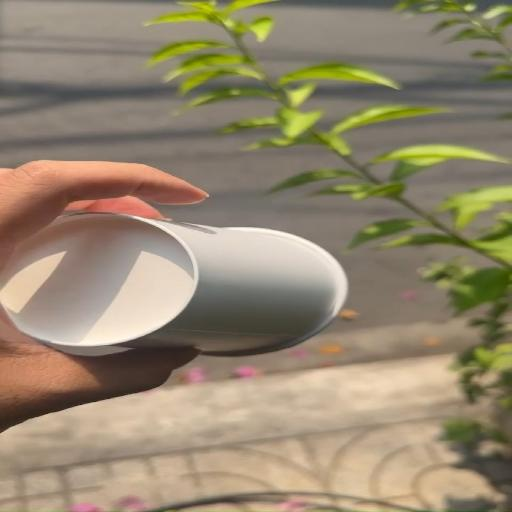Ly_giay: (0, 213, 347, 355)
